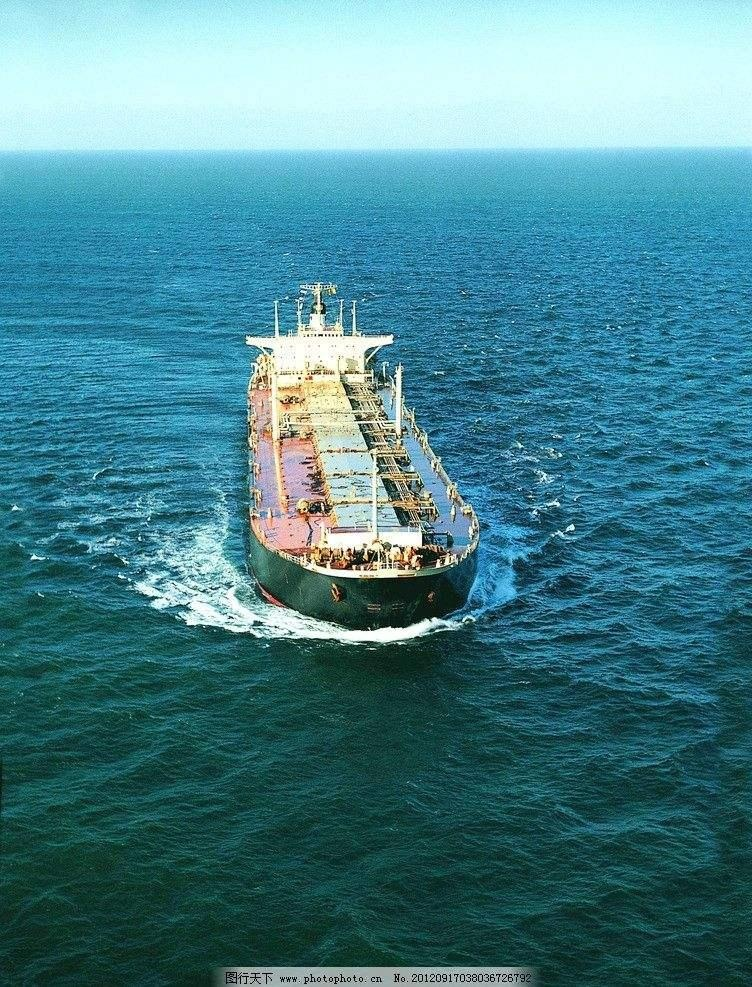Cargoship: (225, 266, 479, 646)
